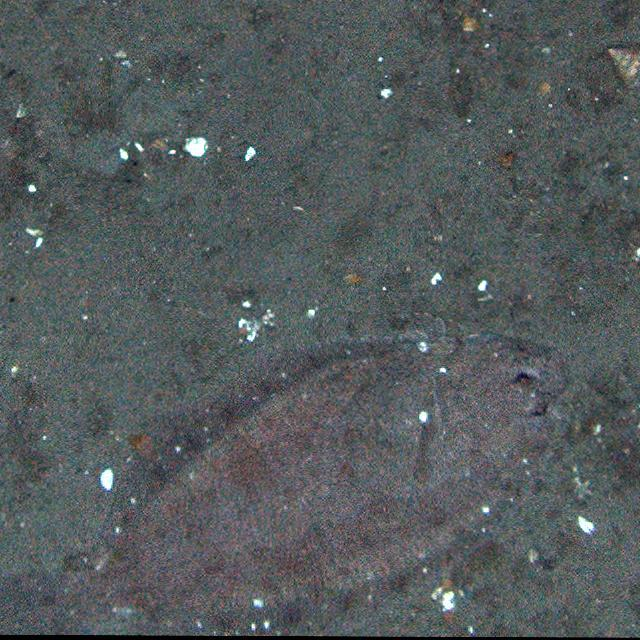flatfish: (122, 322, 566, 616)
